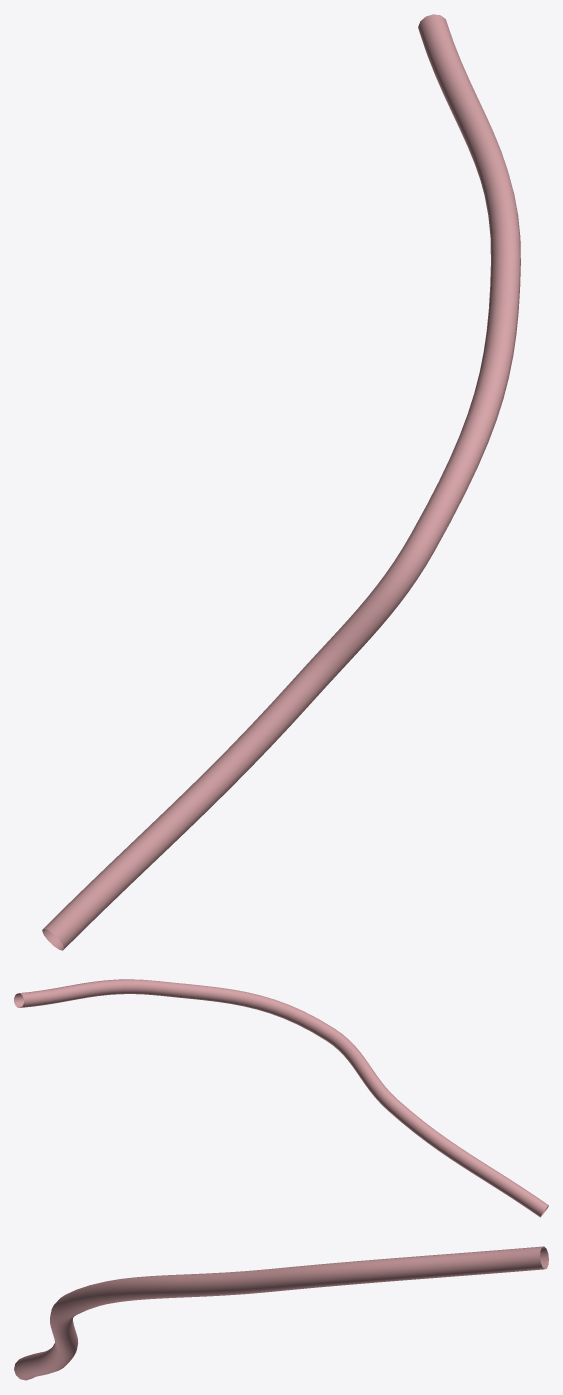
The picture shows the model from 3 angles, top to bottom: view 1: azimuth 30°, elevation 25°; view 2: azimuth 150°, elevation 25°; view 3: azimuth 270°, elevation 25°; orthographic projection. The views are drawn at different scales.
Visible parts, largest first — view 1: ZA_e3ee90fdb17bc6cf; view 2: ZA_e3ee90fdb17bc6cf; view 3: ZA_e3ee90fdb17bc6cf.
Part boxes in pixels (left/top/right/bottom): ZA_e3ee90fdb17bc6cf: left=42, top=14, right=520, bottom=950; ZA_e3ee90fdb17bc6cf: left=14, top=979, right=548, bottom=1217; ZA_e3ee90fdb17bc6cf: left=14, top=1246, right=548, bottom=1380.
Size of the model in its own units: 0.0283 by 0.0191 by 0.0231.
